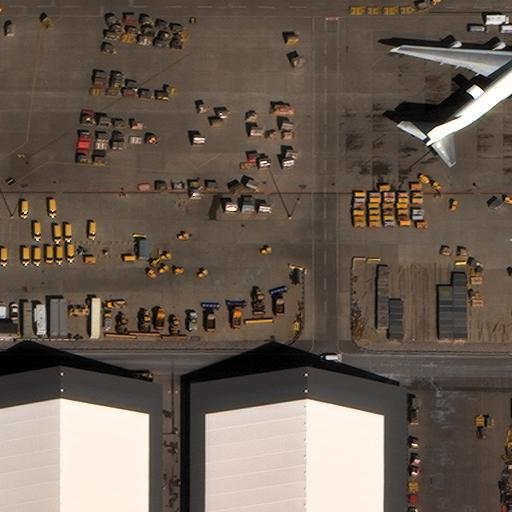Large Civil Transport: (399, 28, 511, 157)
